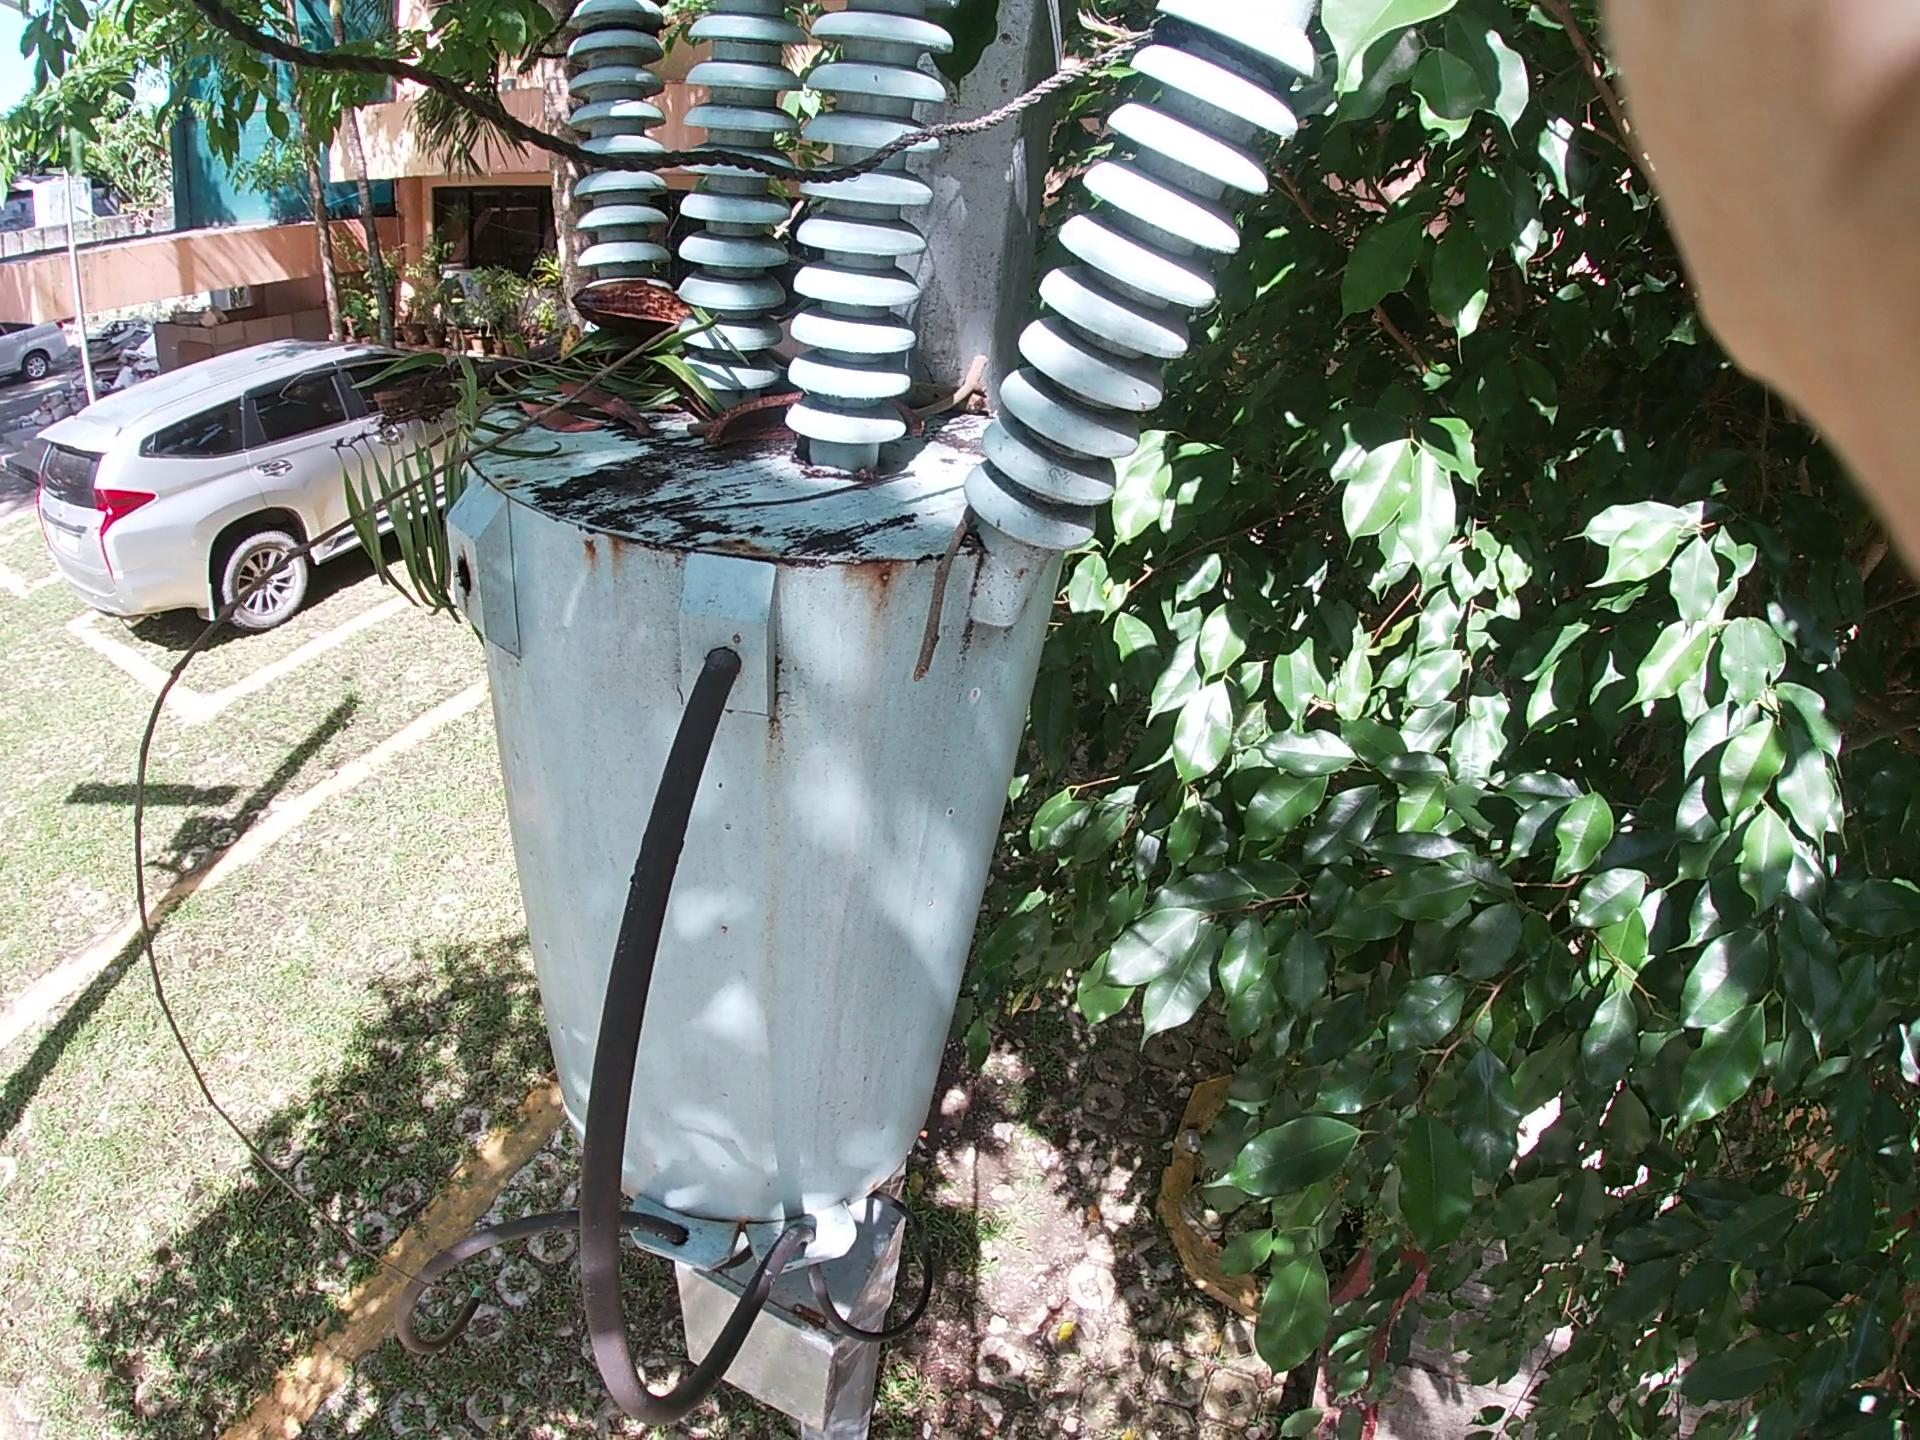branch with leaves: (485, 219, 711, 440)
leaf: (519, 352, 588, 449)
mahogany fruit: (540, 222, 717, 351), (652, 352, 830, 466)
tree branch: (271, 275, 751, 1033), (788, 330, 1023, 479), (897, 483, 980, 693)
